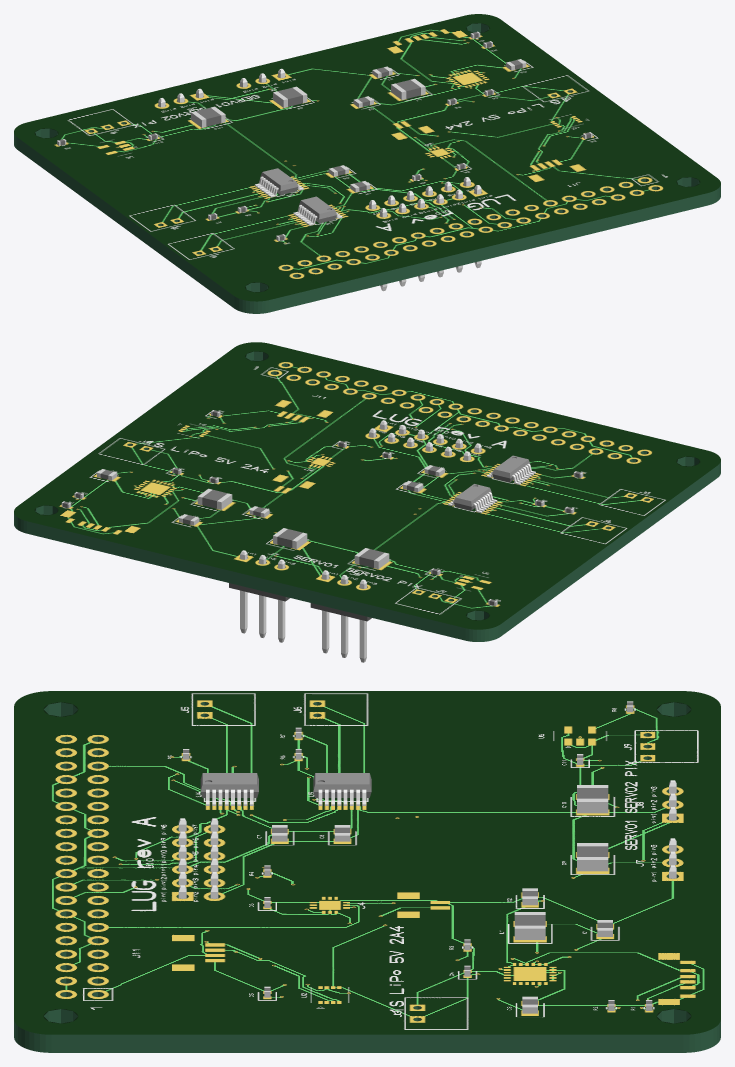
The model's file is lug.glb.
3 views of the same model, one above another, from view 1: azimuth 30°, elevation 25°; view 2: azimuth 150°, elevation 25°; view 3: azimuth 270°, elevation 25° (orthographic). The views are drawn at different scales.
Visible parts, largest first — view 1: Box0, J10, U4, U5, L1, C9, C10; view 2: Box0, J8, J7, U5, U4, J10, L1, C10, C9; view 3: Box0, U5, U4, J10, C9, C10, L1.
Part boxes in pixels (<box>): Box0: <box>14,14,720,313</box>; J10: <box>369,177,481,291</box>; U4: <box>293,196,342,225</box>; U5: <box>254,168,303,197</box>; L1: <box>391,78,425,99</box>; C9: <box>273,86,307,107</box>; C10: <box>191,106,225,127</box>; Box0: <box>14,342,720,641</box>; J8: <box>310,570,371,662</box>; J7: <box>229,550,289,642</box>; U5: <box>448,484,497,512</box>; U4: <box>486,455,535,484</box>; J10: <box>369,420,481,460</box>; L1: <box>197,488,232,509</box>; C10: <box>354,548,389,569</box>; C9: <box>273,528,307,549</box>; Box0: <box>14,691,720,1052</box>; U5: <box>313,773,371,805</box>; U4: <box>200,773,258,805</box>; J10: <box>178,818,218,898</box>; C9: <box>577,843,608,871</box>; C10: <box>577,785,608,813</box>; L1: <box>514,912,545,939</box>.
Size of the model in its own units: 65 by 10.98 by 56.5.
Materials: 8 (2 with a texture image).
